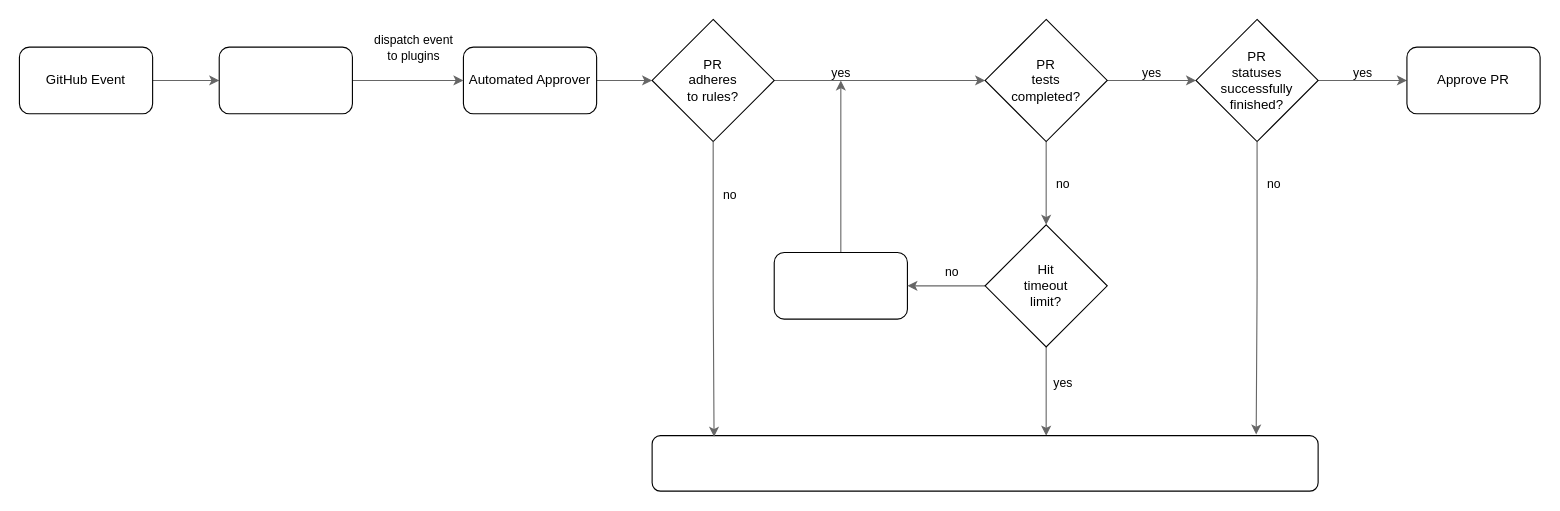
This 1560x511 diagram has some shape labels left out. Each missing label, with the centre of its shape:
Finish: [984,463]
Prow: [285,80]
Sleep-wait for tests: [840,285]
